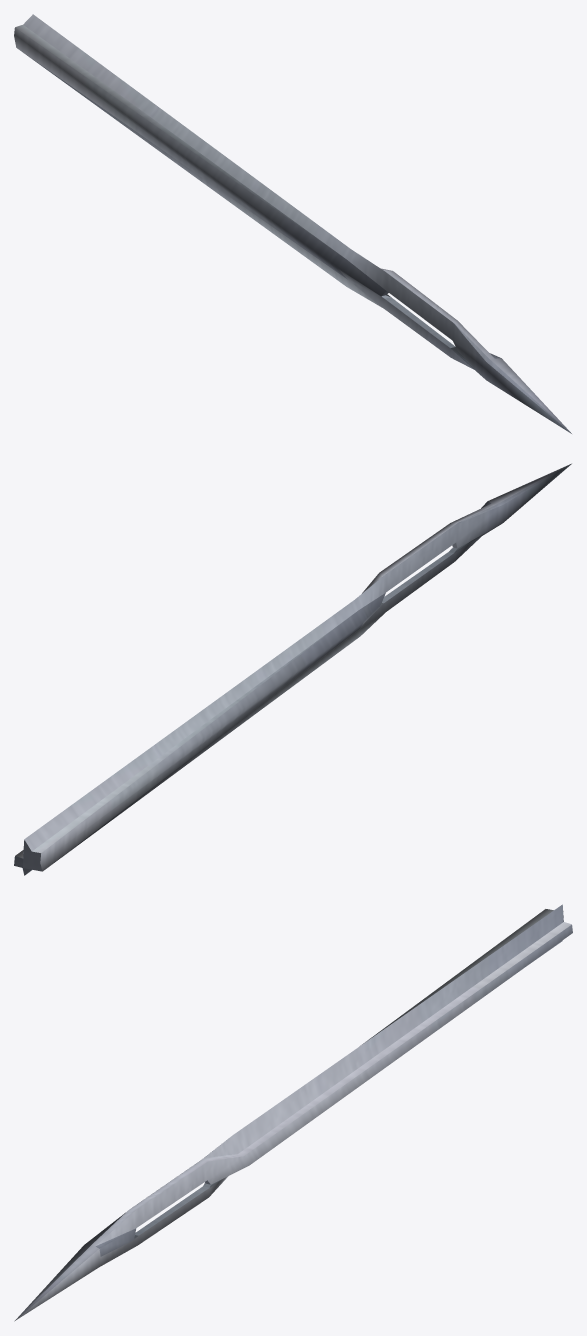
File: Needle.fbx
3 renders of one model, top to bottom at view 1: azimuth 30°, elevation 25°; view 2: azimuth 150°, elevation 25°; view 3: azimuth 330°, elevation 25°, orthographic.
Parts seen in each view (by area): view 1: polySurface350; view 2: polySurface350; view 3: polySurface350.
Part boxes in pixels (bbox=[...]): polySurface350: bbox=[14, 14, 571, 433]; polySurface350: bbox=[14, 463, 571, 875]; polySurface350: bbox=[14, 904, 572, 1321].
Bounding box in the file's own units: 11.66 × 17.86 × 418.
1 material, 1 textured.
